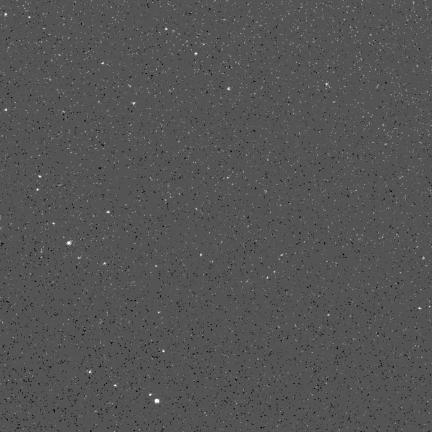blob: (67, 241, 73, 246), (155, 399, 159, 403), (227, 87, 230, 90), (106, 211, 110, 213)
